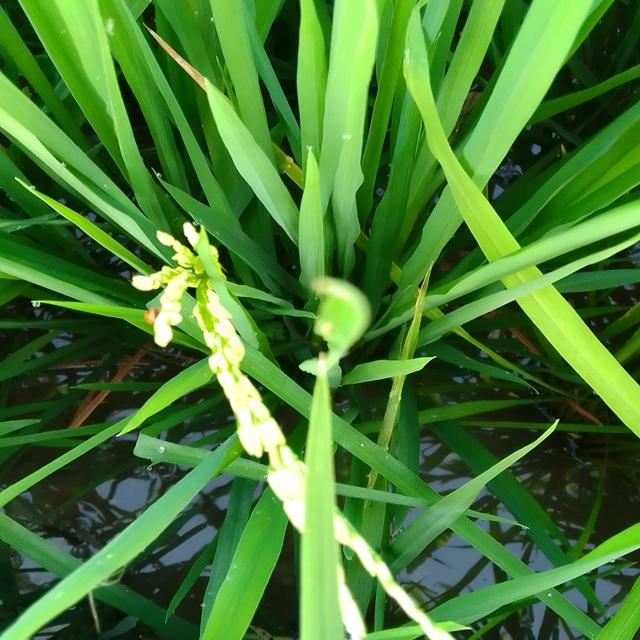Hawar Daun Bakteri: (135, 23, 219, 94)
